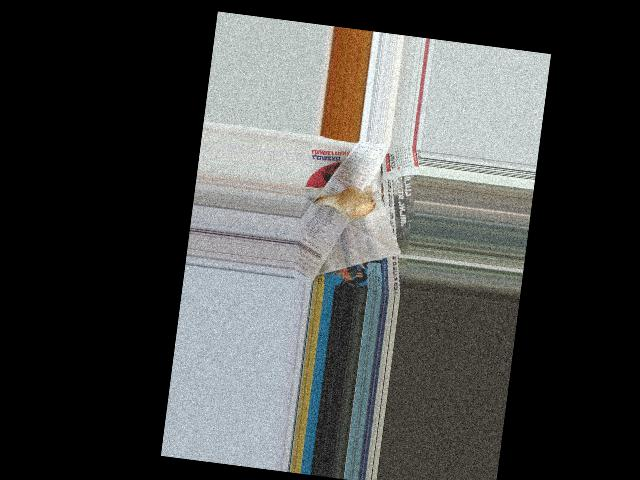onion: (327, 186, 374, 219)
